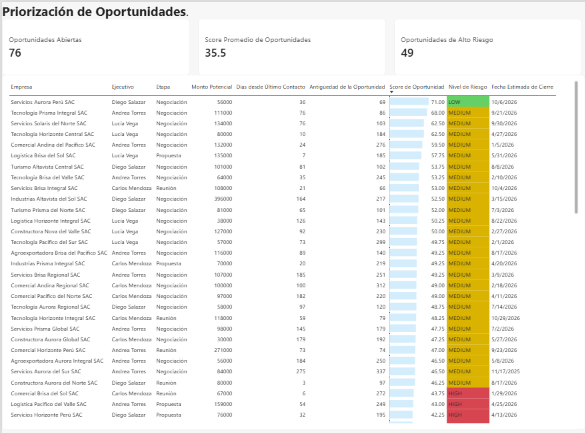

What the dashboard file says about the page in this screenshot:
{"tool":"powerbi","page":{"name":"Priorización de Oportunidades","canvas":[1920,1080],"ordinal":2},"visuals":[{"type":"tableEx","fields":{"Values":["commercial_dataset.company_name","commercial_dataset.assigned_executive","commercial_dataset.stage","commercial_dataset.potential_amount","commercial_dataset.days_since_last_contact","commercial_dataset.opportunity_age_days","commercial_dataset.opportunity_score","commercial_dataset.risk_level","commercial_dataset.expected_close_date"]},"box":[0,182.5,1457.5,887.5],"z":0},{"type":"cardVisual","fields":{"Data":["commercial_dataset.Average Opportunity Score"]},"box":[490,42.5,470,140],"z":1000},{"type":"cardVisual","fields":{"Data":["commercial_dataset.Open Opportunities"]},"box":[0,42.5,470,140],"z":2000},{"type":"cardVisual","fields":{"Data":["commercial_dataset.High Risk Opportunities"]},"box":[980,42.5,470,140],"z":3000},{"type":"textbox","box":[0,0,1457.5,60],"z":4000}]}

Visuals, with their boxes on the page's 1920x1080 design canvas (x1, y1, x2, y2). These are canvas units, not pixel positions in the 585x433 screenshot, which may show the page scaled, cropped or inside an application window:
tableEx - commercial_dataset.company_name x commercial_dataset.assigned_executive: 0, 182, 1458, 1070
cardVisual - commercial_dataset.Average Opportunity Score: 490, 42, 960, 182
cardVisual - commercial_dataset.Open Opportunities: 0, 42, 470, 182
cardVisual - commercial_dataset.High Risk Opportunities: 980, 42, 1450, 182
textbox: 0, 0, 1458, 60
